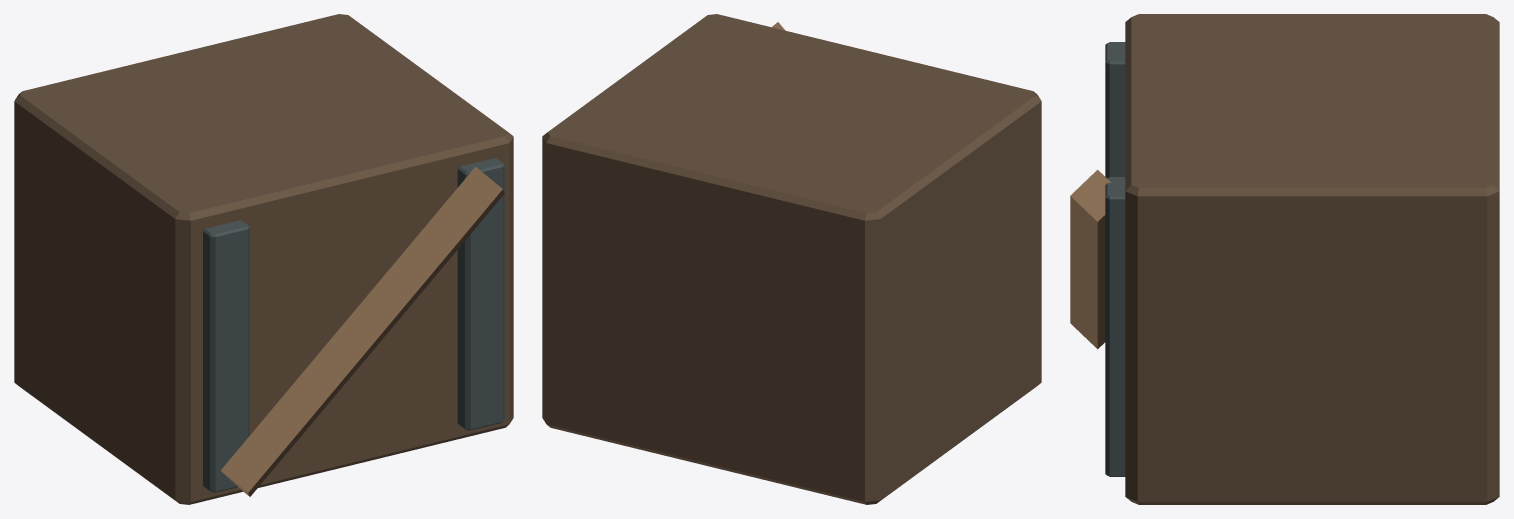
The model's file is crate.glb.
3 renders of one model, left to right at view 1: azimuth 30°, elevation 25°; view 2: azimuth 150°, elevation 25°; view 3: azimuth 270°, elevation 25°, orthographic. The views are drawn at different scales.
Visible parts, largest first — view 1: crate__body; view 2: crate__body; view 3: crate__body.
Boxes of the visible parts, bbox=[...] form: crate__body: bbox=[14, 14, 513, 504]; crate__body: bbox=[542, 14, 1041, 504]; crate__body: bbox=[1070, 14, 1499, 504].
Size of the model in its own units: 0.85 by 0.7 by 0.86.
